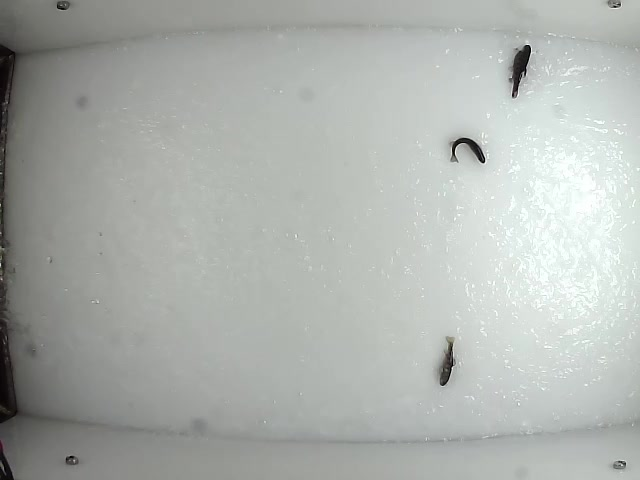fish: (505, 46, 532, 100), (437, 331, 458, 390), (447, 136, 487, 166)
